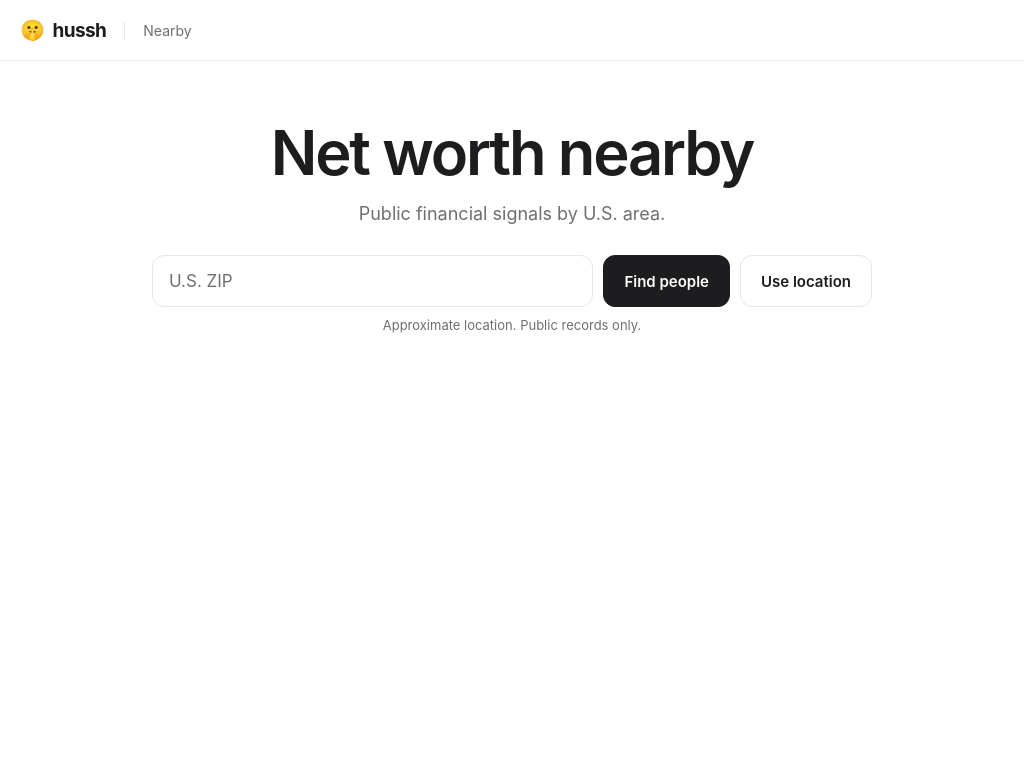
Test: NearbyPeople v4 › falls back to ZIP when location is denied
Click the button "Use location": click(806, 282) [740,256,872,308]
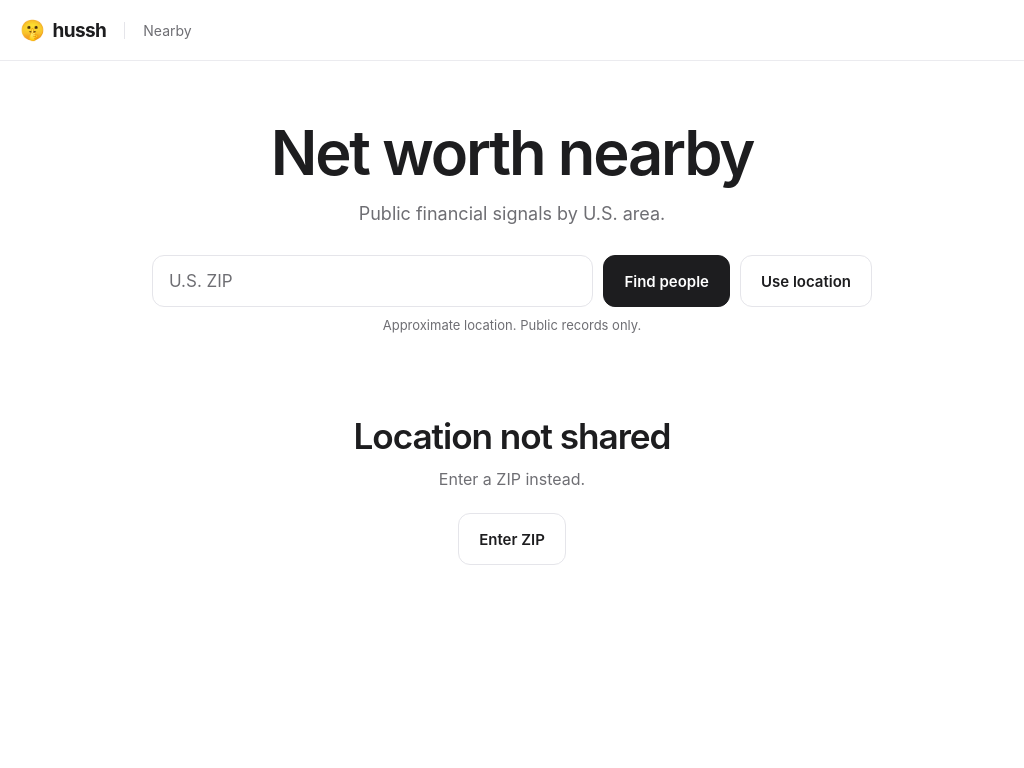
Expected: the heading "Location not shared" is shown, [354,415,670,457]
Expected: the text "Enter a ZIP instead." is shown, [439,469,585,489]
